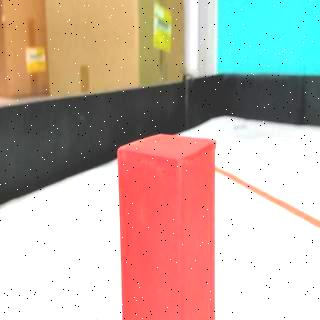redbox: (117, 134, 216, 320)
